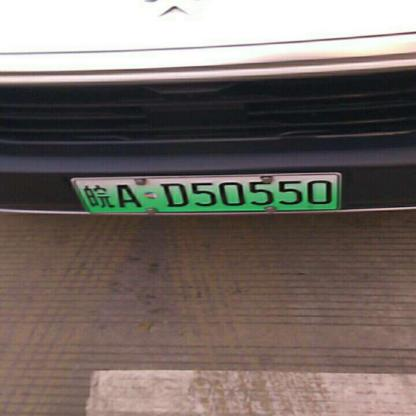lp: (70, 175, 340, 214)
